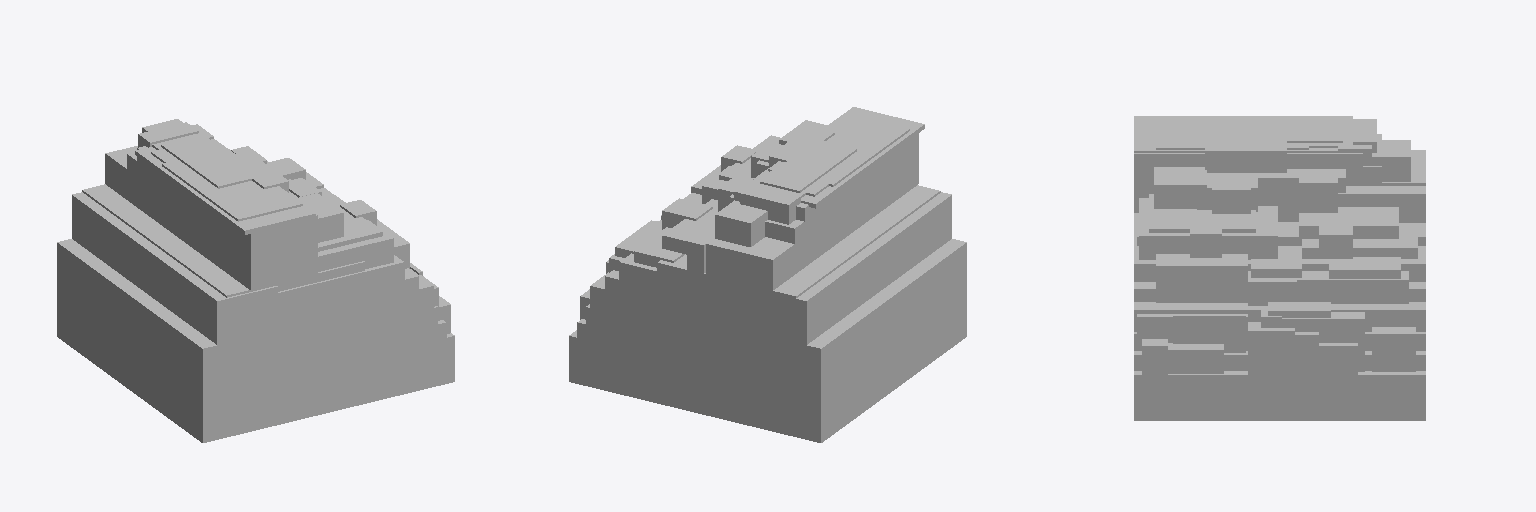
The model's file is 3d fon 2.1-3.obj.
The picture shows the model from 3 angles: view 1: azimuth 30°, elevation 25°; view 2: azimuth 150°, elevation 25°; view 3: azimuth 270°, elevation 25°; orthographic projection.
Visible parts, largest first — view 1: object 1; view 2: object 1; view 3: object 1.
Boxes of the visible parts, box(x1,y1,x2,y2) form: object 1: box(57, 119, 454, 442); object 1: box(569, 107, 966, 442); object 1: box(1134, 116, 1425, 420).
Size of the model in its own units: 12 by 9.4 by 12.